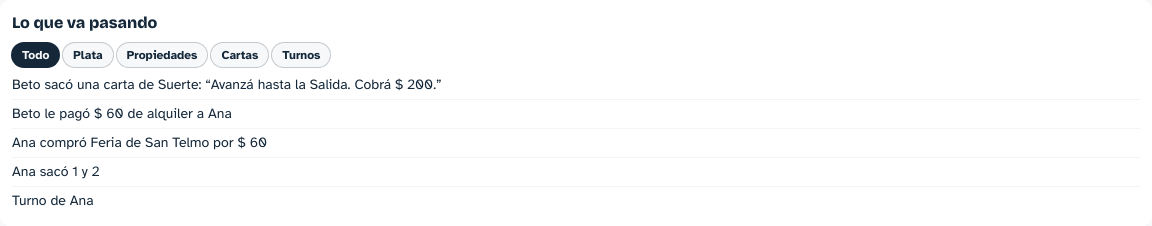
Test: registro filtrable (SPEC §7.4) › filtra por categoría y vuelve a "Todo"
Expected: the number of list items is 5, [12,75,1140,100]; [12,104,1140,129]; [12,133,1140,158]; [12,162,1140,187]; [12,192,94,209]
Click the button "Plata" at (88, 55), box [63,43,113,67]
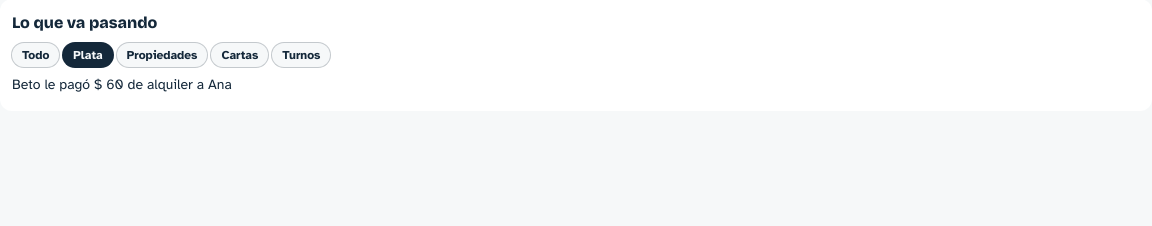
Expected: the list item shows "60", [12,76,232,93]
Now the number of list items is 1, box [12,76,232,93]
Click the button "Turnos" at (301, 55), box [272,43,330,67]
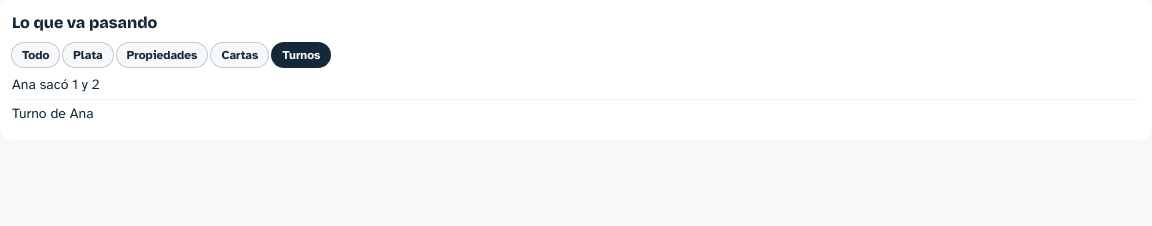
Now the number of list items is 2, box [12,75,1140,100]; [12,105,94,122]
Click the button "Cartas" at (240, 55), box [211,43,268,67]
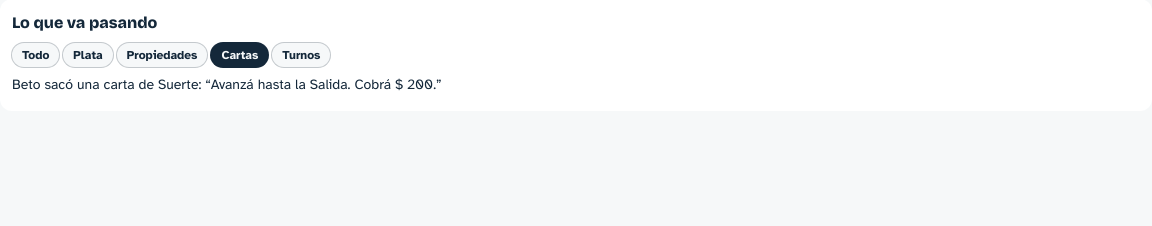
Now the number of list items is 1, box [12,76,442,93]
Click the button "Todo" at (36, 55), box [12,43,59,67]
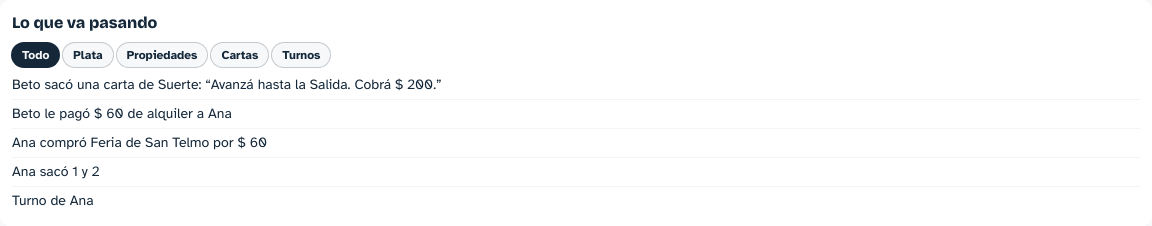
Now the number of list items is 5, box [12,75,1140,100]; [12,104,1140,129]; [12,133,1140,158]; [12,162,1140,187]; [12,192,94,209]
